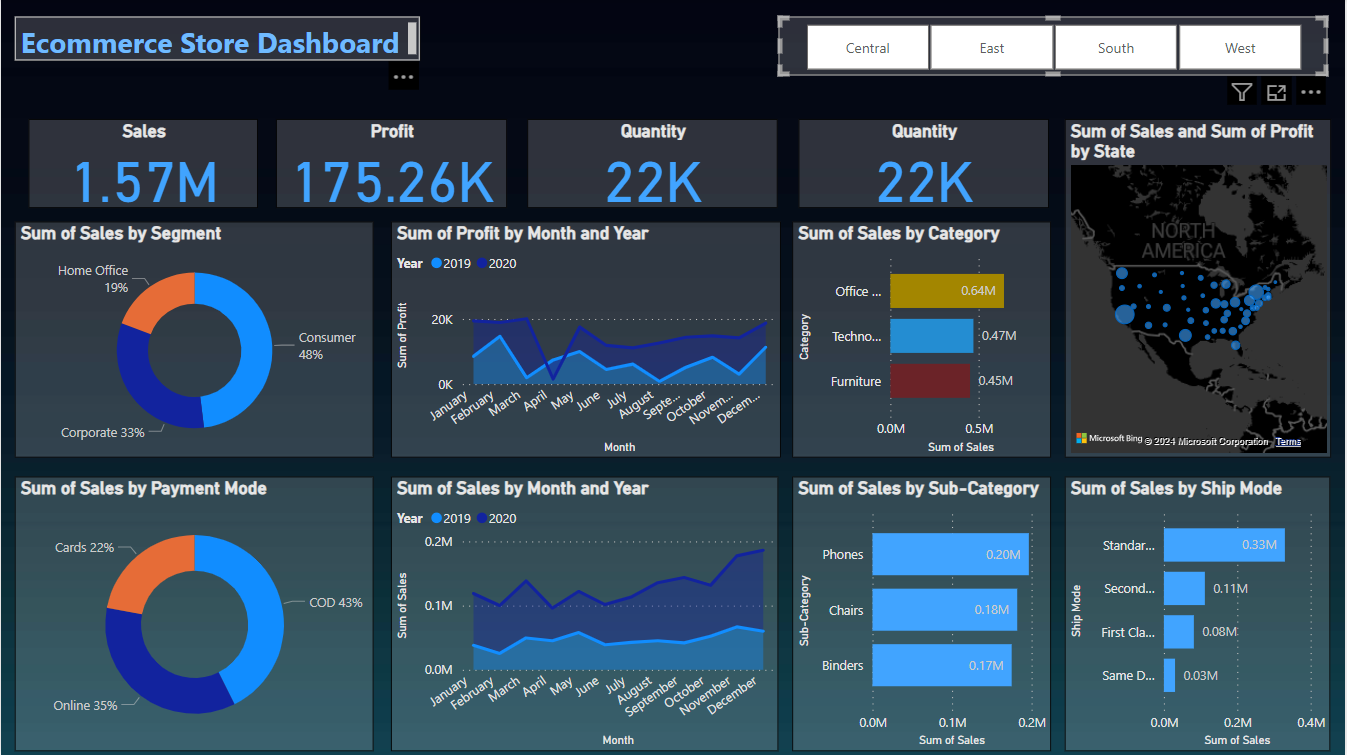

The page's visual inventory and layout, read from the dashboard file:
{"tool":"powerbi","page":{"name":"Page 1","canvas":[1280,720],"ordinal":0},"visuals":[{"type":"barChart","fields":{"Category":["SuperStore_Sales_Dataset.Category"],"Y":["Sum(SuperStore_Sales_Dataset.Sales)"]},"box":[753.8,211.2,246.2,225],"z":0},{"type":"barChart","fields":{"Y":["Sum(SuperStore_Sales_Dataset.Sales)"],"Category":["SuperStore_Sales_Dataset.Sub-Category"]},"box":[753.8,455,246.2,261.2],"z":1},{"type":"barChart","fields":{"Y":["Sum(SuperStore_Sales_Dataset.Sales)"],"Category":["SuperStore_Sales_Dataset.Ship Mode"]},"box":[1012.5,455,252.5,261.2],"z":2},{"type":"stackedAreaChart","fields":{"Category":["SuperStore_Sales_Dataset.Order Date.Variation.Date Hierarchy.Month","SuperStore_Sales_Dataset.Order Date.Variation.Date Hierarchy.Day"],"Y":["Sum(SuperStore_Sales_Dataset.Sales)"],"Series":["SuperStore_Sales_Dataset.Order Date.Variation.Date Hierarchy.Year"]},"box":[371.2,455,368.8,261.2],"z":3},{"type":"stackedAreaChart","fields":{"Category":["SuperStore_Sales_Dataset.Order Date.Variation.Date Hierarchy.Month","SuperStore_Sales_Dataset.Order Date.Variation.Date Hierarchy.Day"],"Series":["SuperStore_Sales_Dataset.Order Date.Variation.Date Hierarchy.Year"],"Y":["Sum(SuperStore_Sales_Dataset.Profit)"]},"box":[371.2,211.2,371.2,225],"z":4},{"type":"map","fields":{"Category":["SuperStore_Sales_Dataset.State"],"Size":["Sum(SuperStore_Sales_Dataset.Sales)"]},"box":[1012.5,113.8,253.8,322.5],"z":5},{"type":"donutChart","fields":{"Category":["SuperStore_Sales_Dataset.Segment"],"Y":["Sum(SuperStore_Sales_Dataset.Sales)"]},"box":[12.5,211.2,341.2,225],"z":6},{"type":"donutChart","fields":{"Category":["SuperStore_Sales_Dataset.Payment Mode"],"Y":["Sum(SuperStore_Sales_Dataset.Sales)"]},"box":[12.5,455,341.2,261.2],"z":7},{"type":"slicer","fields":{"Values":["SuperStore_Sales_Dataset.Region"]},"box":[740,16.2,522.5,56.2],"z":8},{"type":"textbox","box":[12.5,16.2,386.2,42.5],"z":9},{"type":"card","title":"Sales","fields":{"Values":["Sum(SuperStore_Sales_Dataset.Sales)"]},"box":[26.2,113.8,218.8,85],"z":10},{"type":"card","title":"Profit","fields":{"Values":["Sum(SuperStore_Sales_Dataset.Profit)"]},"box":[261.2,113.8,220,85],"z":11},{"type":"card","title":"Quantity","fields":{"Values":["Sum(SuperStore_Sales_Dataset.Quantity)"]},"box":[501.2,113.8,238.8,85],"z":12},{"type":"card","title":"Quantity","fields":{"Values":["Sum(SuperStore_Sales_Dataset.Quantity)"]},"box":[758.8,113.8,238.8,85],"z":13}]}

Visuals, with their boxes in screenshot pixels (x1, y1, x2, y2), scaled from the page's 1280x720 canvas onto the 1347x755 screenshot:
barChart - SuperStore_Sales_Dataset.Category x Sum(SuperStore_Sales_Dataset.Sales): (793, 221, 1052, 457)
barChart - Sum(SuperStore_Sales_Dataset.Sales) x SuperStore_Sales_Dataset.Sub-Category: (793, 477, 1052, 751)
barChart - Sum(SuperStore_Sales_Dataset.Sales) x SuperStore_Sales_Dataset.Ship Mode: (1065, 477, 1331, 751)
stackedAreaChart - SuperStore_Sales_Dataset.Order Date.Variation.Date Hierarchy.Month x SuperStore_Sales_Dataset.Order Date.Variation.Date Hierarchy.Day: (391, 477, 779, 751)
stackedAreaChart - SuperStore_Sales_Dataset.Order Date.Variation.Date Hierarchy.Month x SuperStore_Sales_Dataset.Order Date.Variation.Date Hierarchy.Day: (391, 221, 781, 457)
map - SuperStore_Sales_Dataset.State x Sum(SuperStore_Sales_Dataset.Sales): (1065, 119, 1333, 458)
donutChart - SuperStore_Sales_Dataset.Segment x Sum(SuperStore_Sales_Dataset.Sales): (13, 221, 372, 457)
donutChart - SuperStore_Sales_Dataset.Payment Mode x Sum(SuperStore_Sales_Dataset.Sales): (13, 477, 372, 751)
slicer - SuperStore_Sales_Dataset.Region: (779, 17, 1329, 76)
textbox: (13, 17, 420, 62)
"Sales" card: (28, 119, 258, 208)
"Profit" card: (275, 119, 506, 208)
"Quantity" card: (527, 119, 779, 208)
"Quantity" card: (799, 119, 1050, 208)
